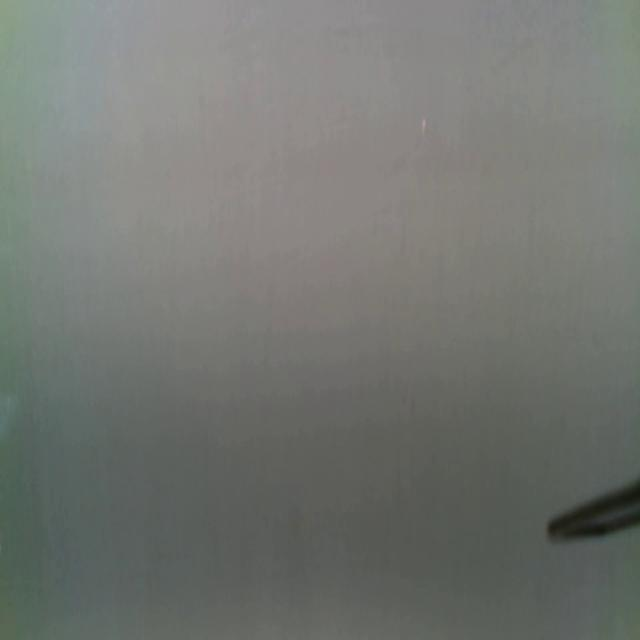hole: (421, 115, 429, 139)
